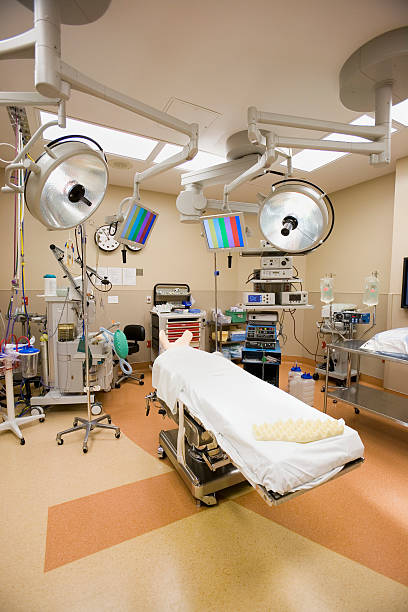bedside_monitor: (112, 200, 159, 246), (197, 213, 249, 249)
electrosurgical_unit: (242, 317, 281, 356)
iv_pole: (68, 218, 101, 426), (359, 266, 382, 334), (319, 269, 341, 332)
medical_drawer: (157, 304, 205, 349)
operating_bed: (146, 353, 370, 512)
surgical_light: (23, 134, 111, 228), (255, 176, 332, 255)
utility_cart: (318, 341, 408, 436)
ventilator: (38, 270, 127, 417)
